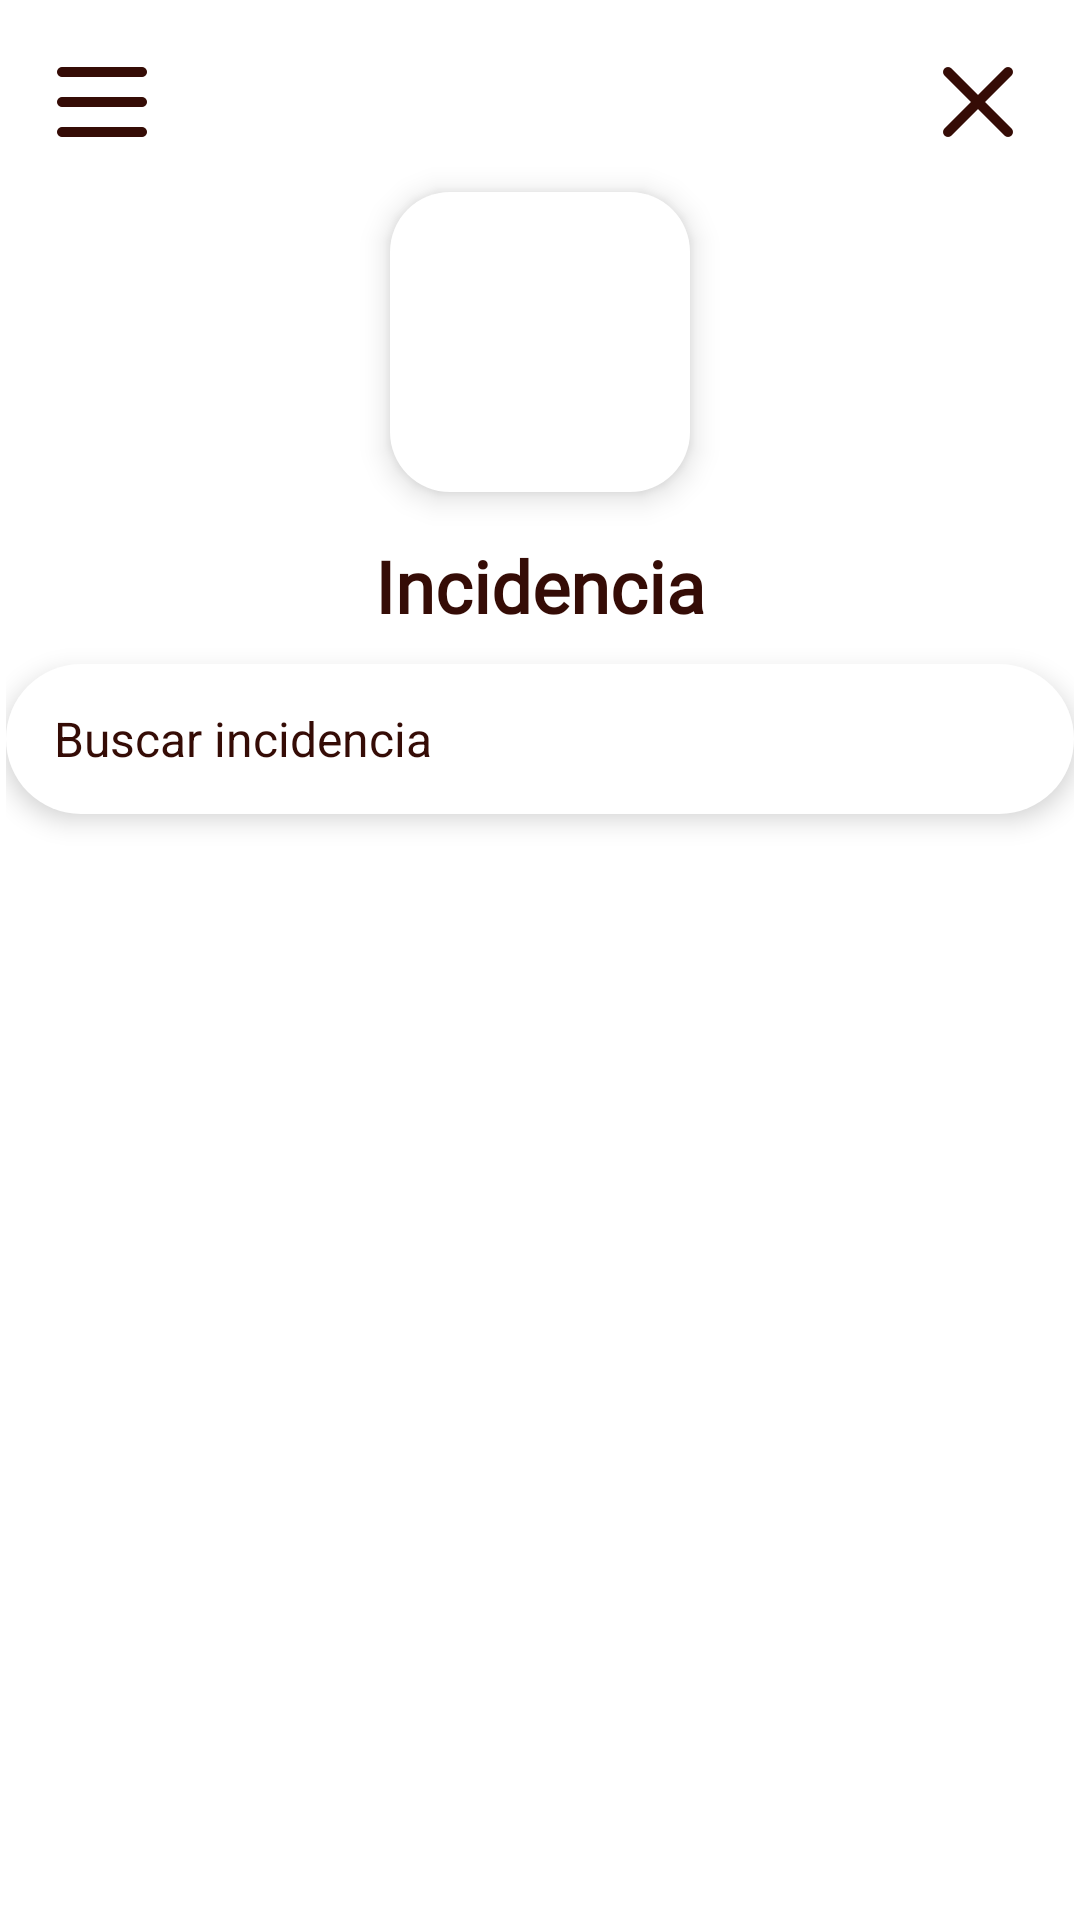

Screen size 1080w x 1920h. Icon name, then its box in pixels as bbox(x1, y1, x2, y2):
close: bbox(943, 67, 1013, 137)
menu: bbox(57, 67, 147, 137)
